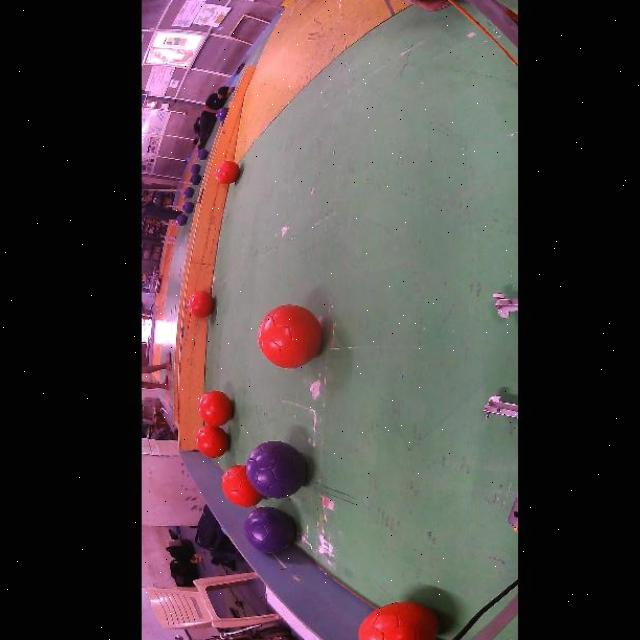P: (244, 442, 306, 498), (242, 507, 294, 553), (180, 201, 192, 214), (214, 108, 225, 121), (195, 149, 206, 161), (180, 187, 192, 198), (174, 214, 185, 226), (188, 164, 198, 175)
R: (256, 304, 320, 368), (357, 602, 436, 640), (219, 465, 261, 507), (197, 391, 231, 426), (193, 425, 227, 459), (185, 290, 213, 317), (213, 161, 238, 184)
